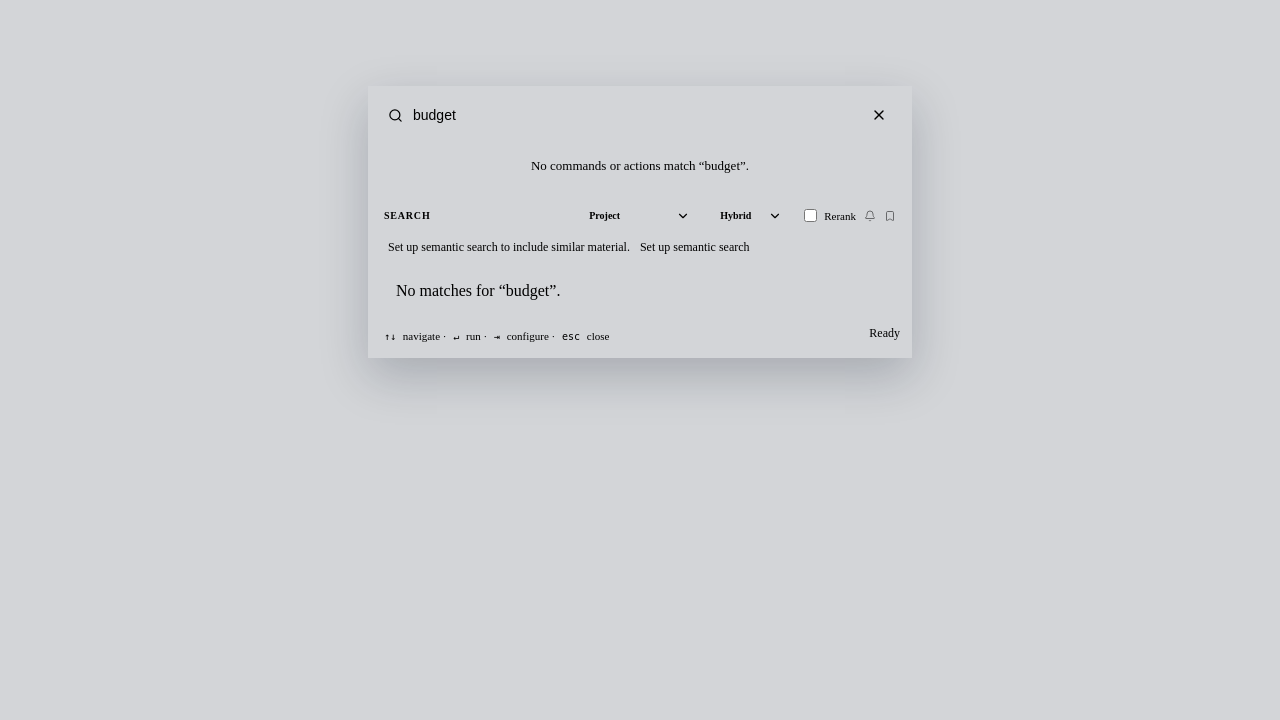
located palette search › dismisses semantic setup without starting a download
Click the button with test id "search-setup": [695, 248] box [640,240,750,255]
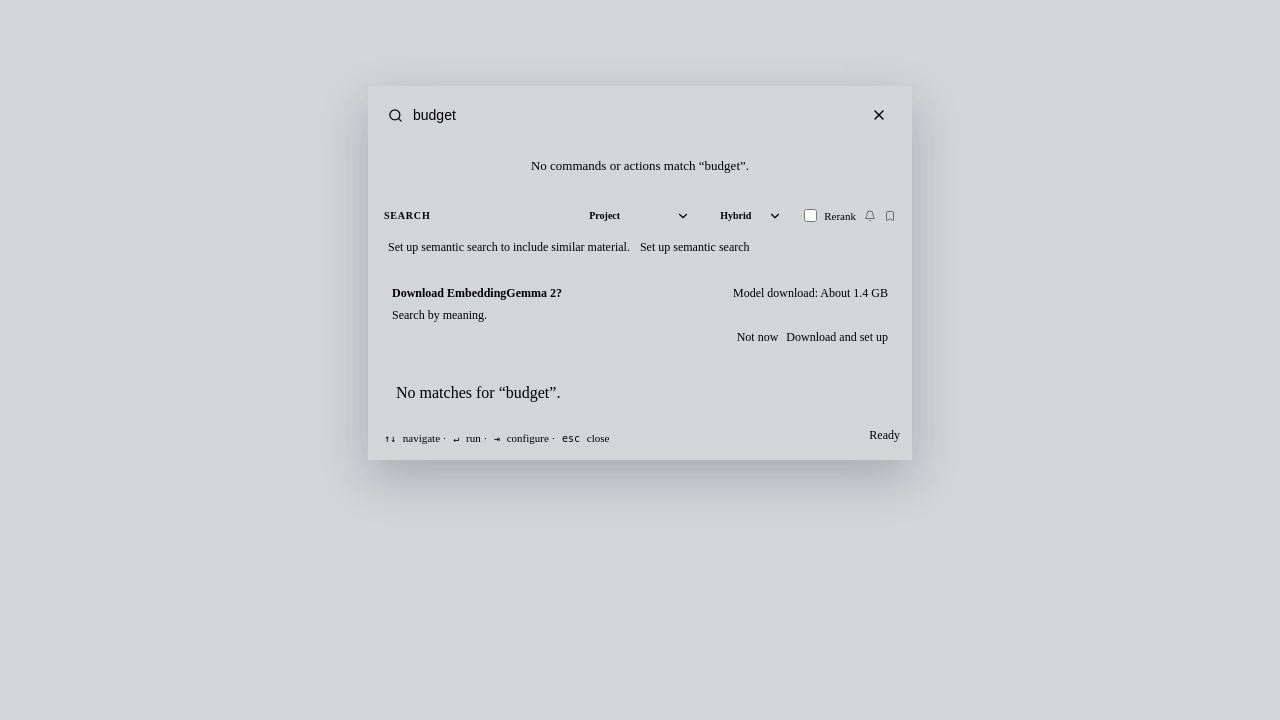
Click the button with test id "search-setup-not-now": [758, 338] box [737,330,778,345]
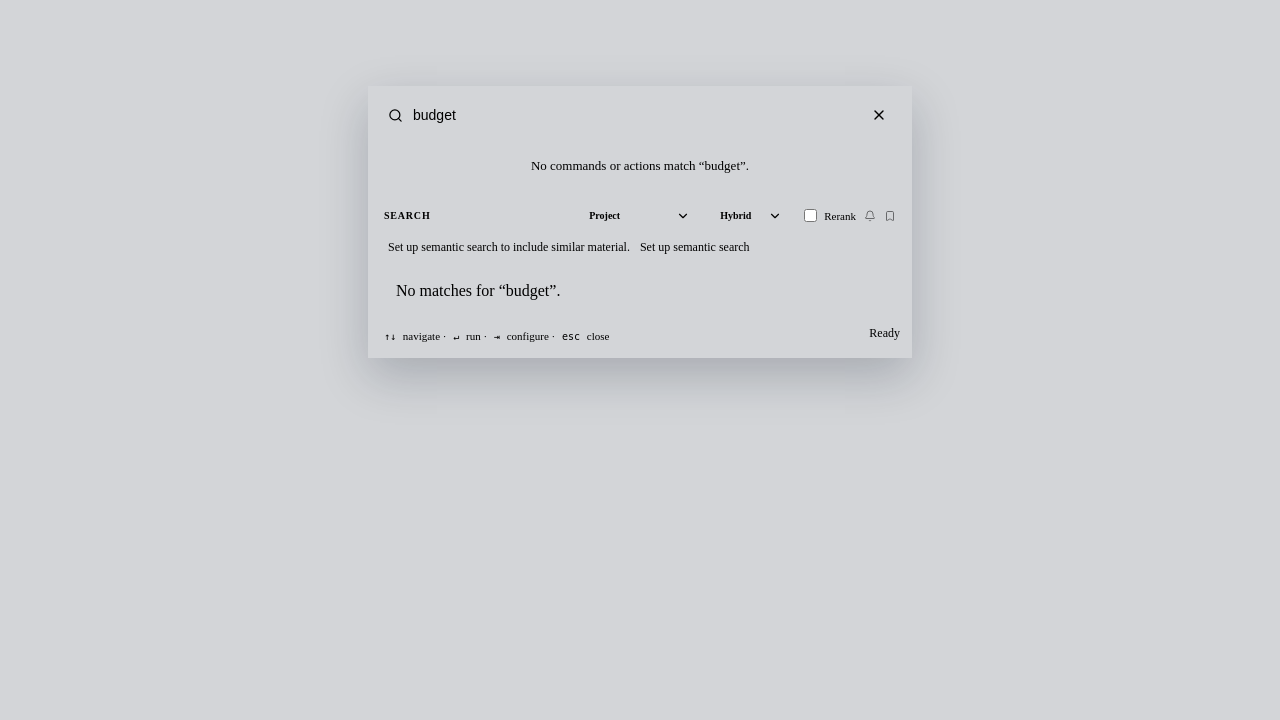
Expected: the element with test id "search-setup-consent" is gone
